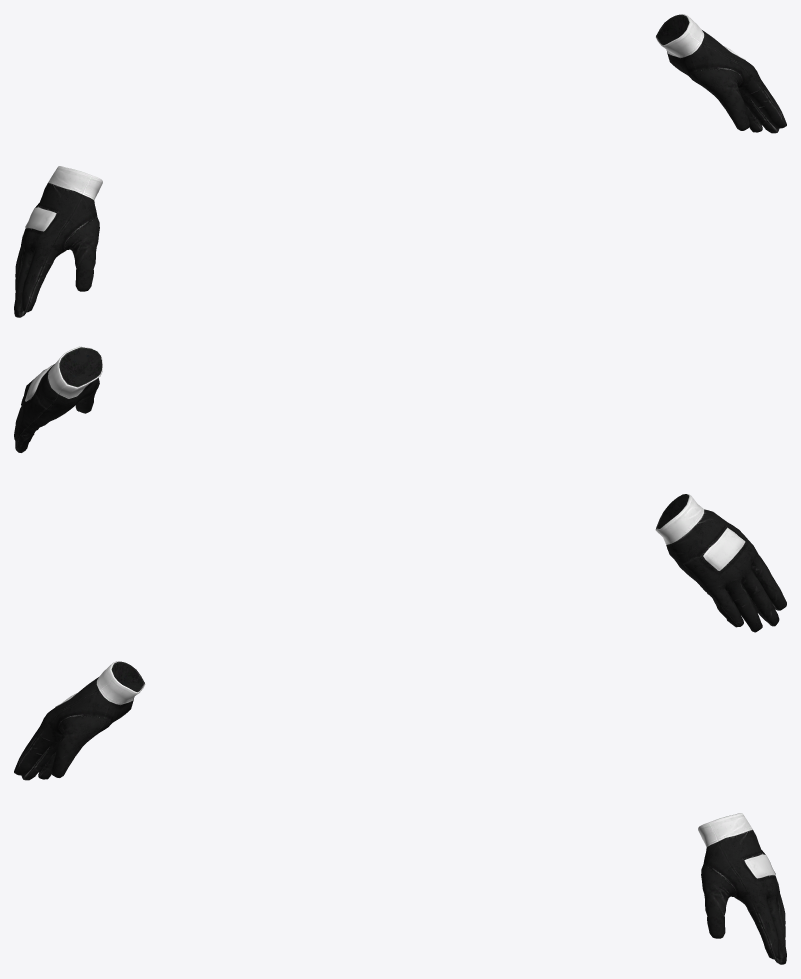
The model's file is SurvivorMale_Hands_Gloves_Driving_LOD0.glb.
The picture shows the model from 3 angles, top to bottom: view 1: azimuth 30°, elevation 25°; view 2: azimuth 150°, elevation 25°; view 3: azimuth 330°, elevation 25°; orthographic projection.
Visible parts, largest first — view 1: Hoodie; view 2: Hoodie; view 3: Hoodie.
Boxes of the visible parts, left/top/right/bottom form: Hoodie: left=14, top=14, right=786, bottom=317; Hoodie: left=14, top=346, right=786, bottom=632; Hoodie: left=14, top=661, right=786, bottom=964.
Size of the model in its own units: 1.34 by 0.2058 by 0.1614.
Materials: 1 (1 with a texture image).
